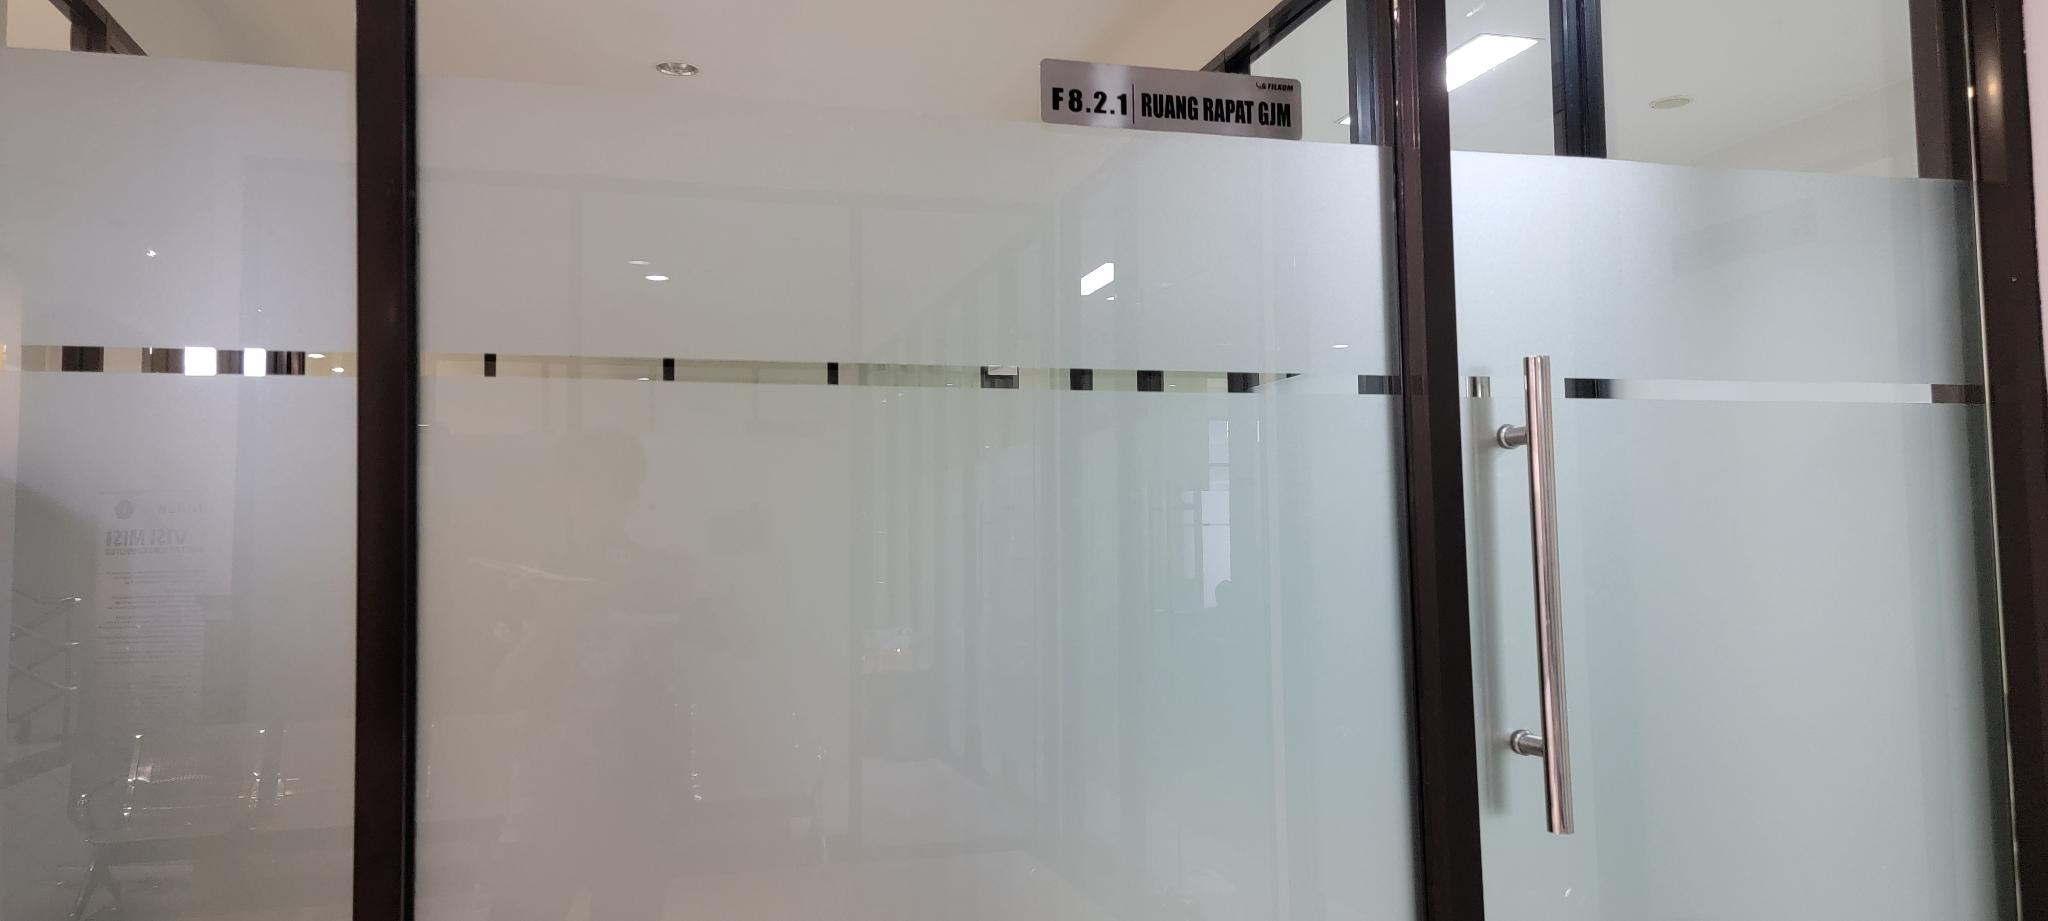plate: (1038, 55, 1301, 144)
